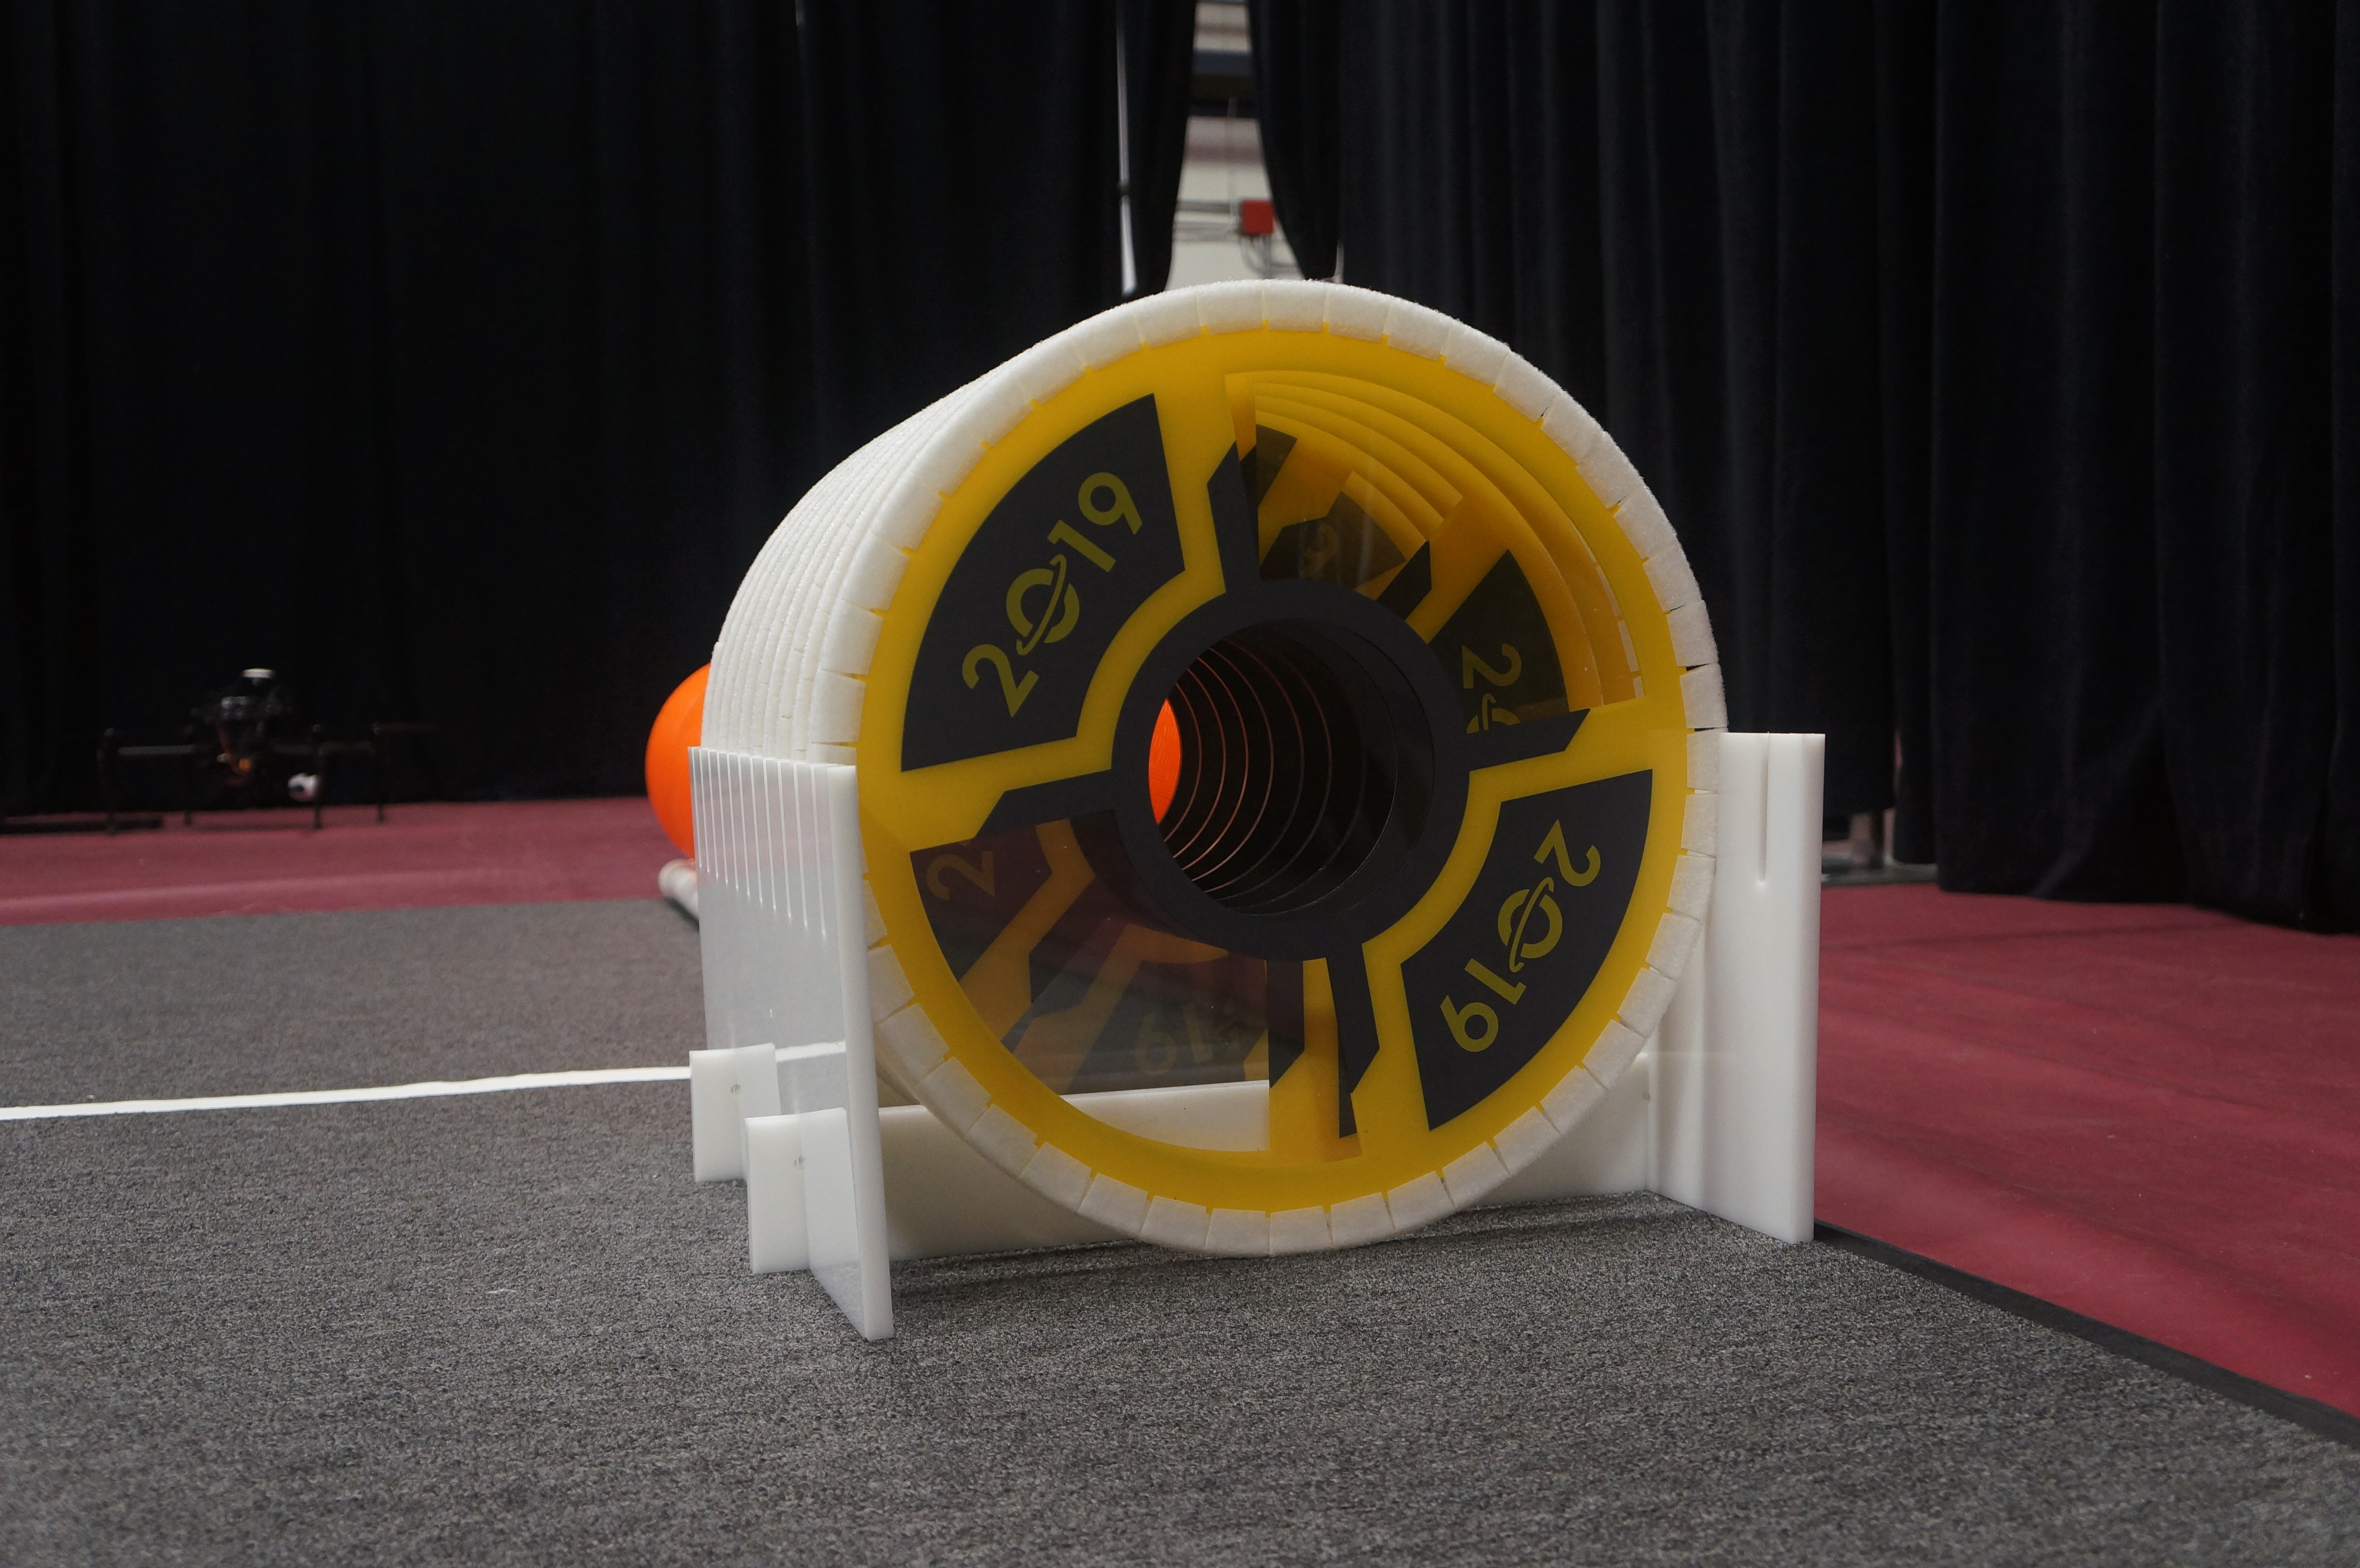Ball: (639, 632, 710, 870)
Hatch: (803, 271, 1734, 1256)
